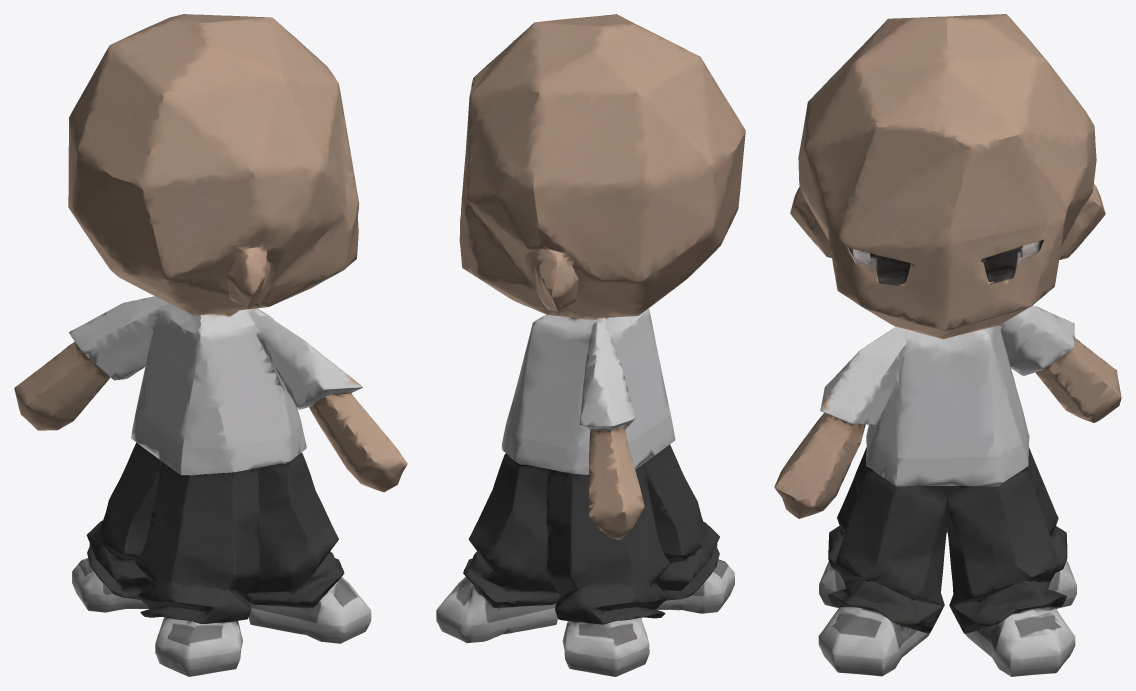
The model's file is dressed.glb.
3 views of the same model, side by side, from view 1: azimuth 30°, elevation 25°; view 2: azimuth 150°, elevation 25°; view 3: azimuth 270°, elevation 25° (orthographic).
Parts seen in each view (by area): view 1: tripo_node_4a38a907-bde2-4e9b-a978-51a2eb060e0d; view 2: tripo_node_4a38a907-bde2-4e9b-a978-51a2eb060e0d; view 3: tripo_node_4a38a907-bde2-4e9b-a978-51a2eb060e0d.
Part boxes in pixels (x1,y1,x2,y2): tripo_node_4a38a907-bde2-4e9b-a978-51a2eb060e0d: (14, 14, 407, 676); tripo_node_4a38a907-bde2-4e9b-a978-51a2eb060e0d: (436, 14, 745, 676); tripo_node_4a38a907-bde2-4e9b-a978-51a2eb060e0d: (774, 14, 1121, 676).
Size of the model in its own units: 0.4513 by 1 by 0.5225.
1 material, 1 textured.
